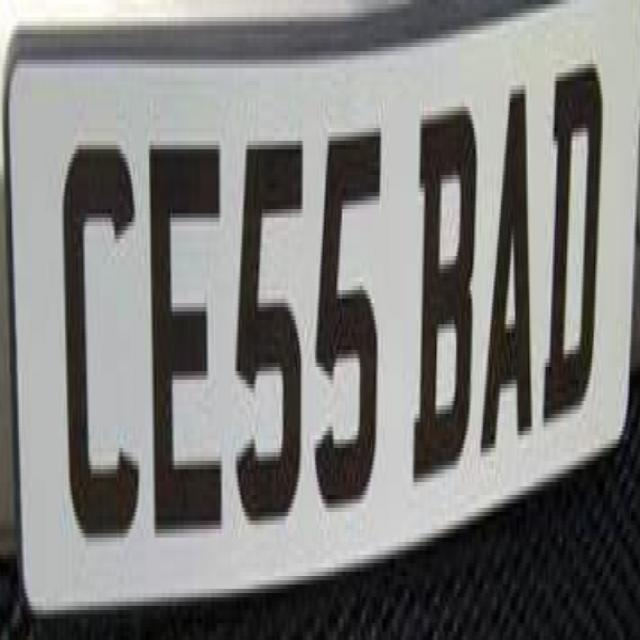5: (314, 104, 387, 516), (235, 110, 306, 528)
A: (480, 71, 534, 458)
B: (411, 92, 477, 484)
C: (54, 121, 143, 552)
D: (540, 62, 604, 434)
E: (146, 121, 227, 534)
